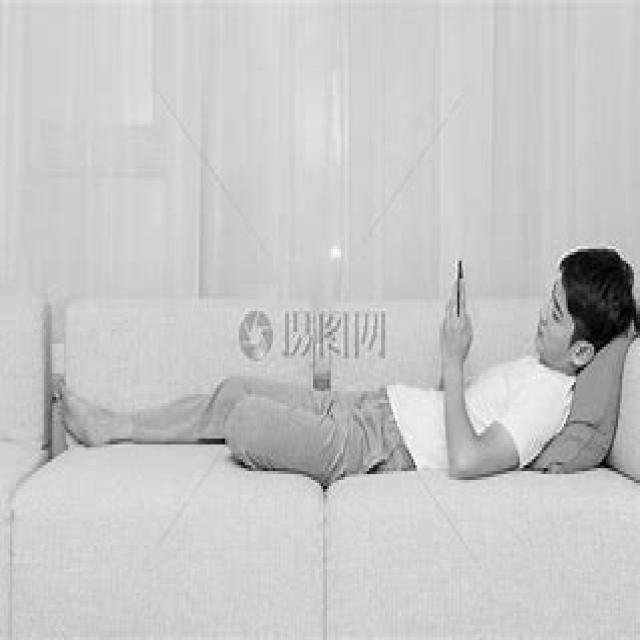lie: (45, 272, 624, 492)
